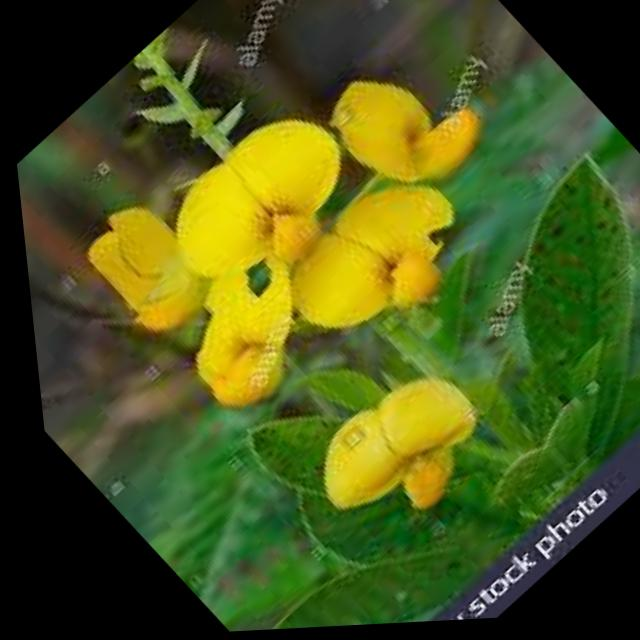Flower: (247, 158, 481, 374), (136, 92, 368, 305), (301, 18, 521, 230), (35, 157, 245, 358), (283, 359, 488, 552), (143, 265, 318, 437)
